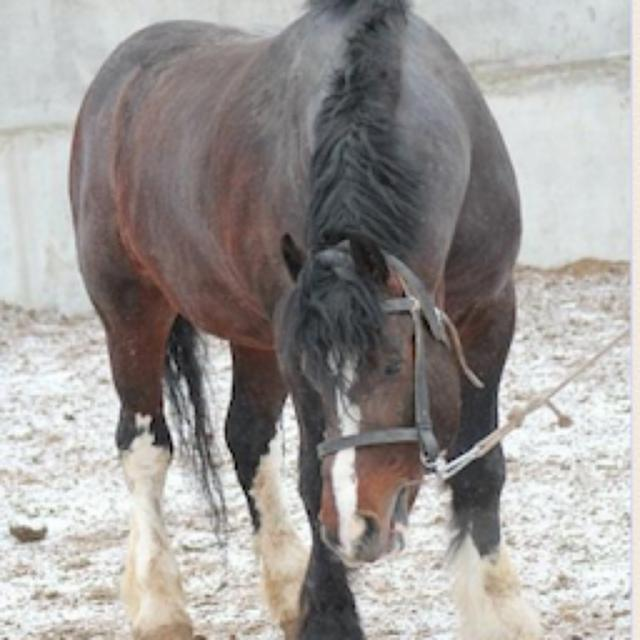Horse: (62, 0, 552, 638)
